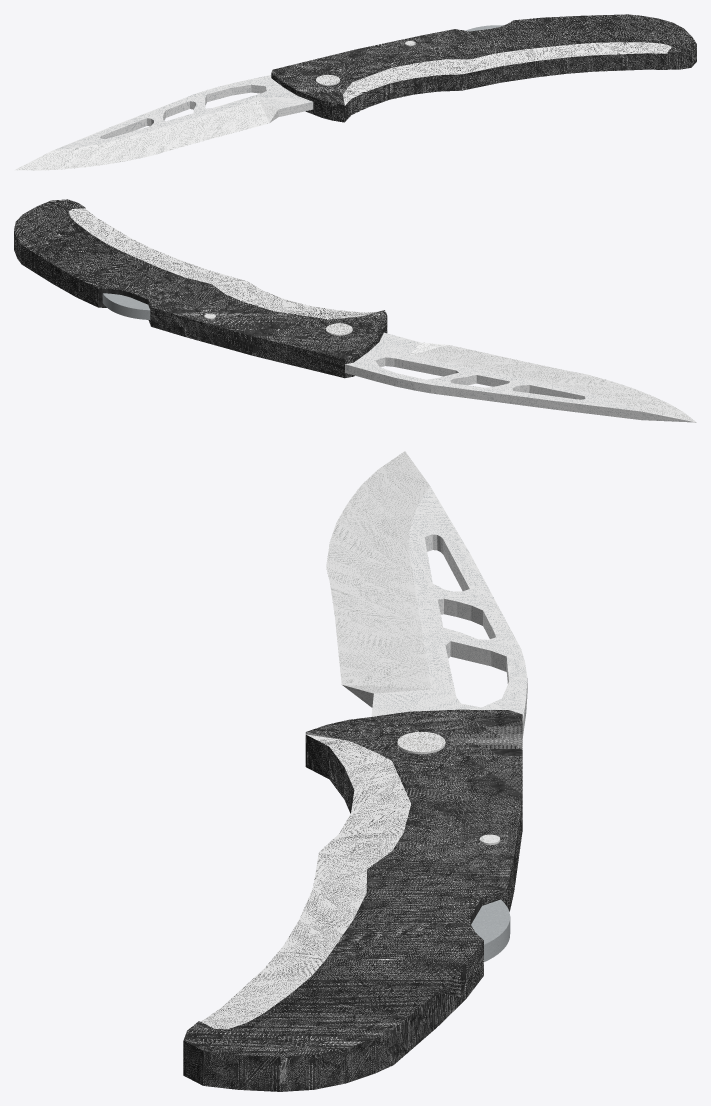
Rendered from knife_06_origin.dae.
3 views of the same model, one above another, from view 1: azimuth 30°, elevation 25°; view 2: azimuth 150°, elevation 25°; view 3: azimuth 270°, elevation 25° (orthographic). The views are drawn at different scales.
Visible parts, largest first — view 1: Pocket_Knife (×7); view 2: Pocket_Knife (×8); view 3: Pocket_Knife (×6).
Part boxes in pixels (left/top/right/bottom): Pocket_Knife (×7): left=14, top=14, right=696, bottom=170; Pocket_Knife (×8): left=14, top=199, right=696, bottom=422; Pocket_Knife (×6): left=183, top=451, right=527, bottom=1091.
Size of the model in its own units: 8.45 by 1.97 by 0.2463.
7 materials, 6 textured.
